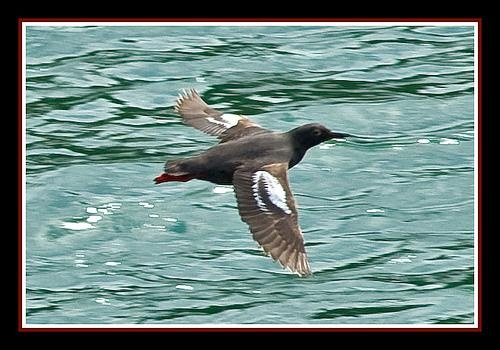bird: (152, 87, 353, 279)
